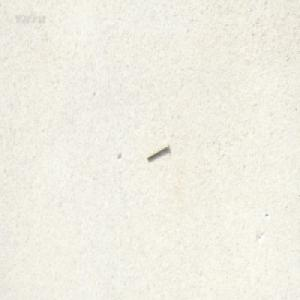Bolt: (145, 141, 168, 161)
